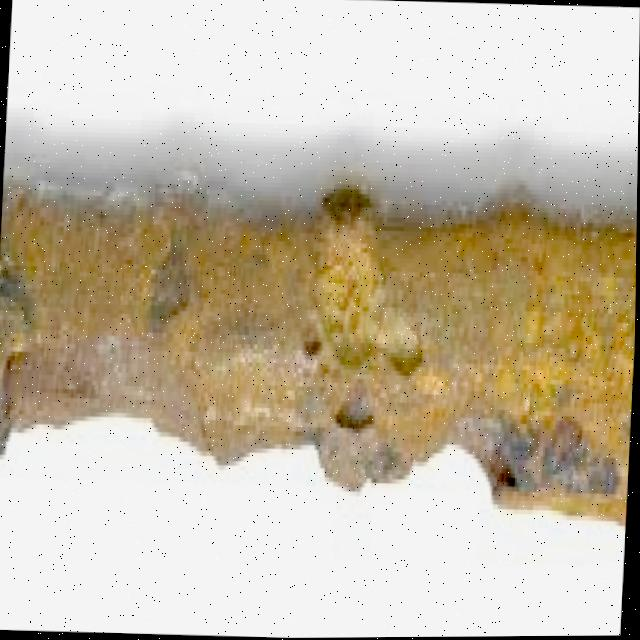corrosion: (0, 152, 638, 552)
